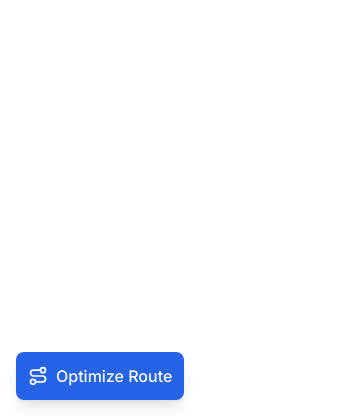
Test: RoutePanel › Panel interaction › opens panel when optimize button clicked
Click the button "Optimize Route" at (100, 376), box [16, 352, 184, 400]
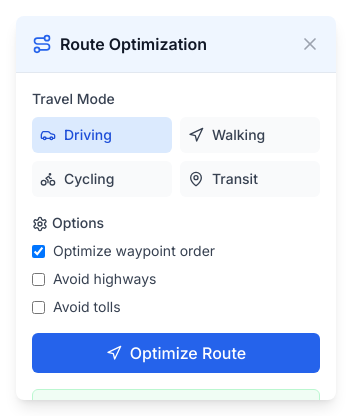
expect the heading "Route Optimization" is shown: met, box [60, 32, 207, 56]
expect the text "Travel Mode" is shown: met, box [32, 90, 115, 107]
